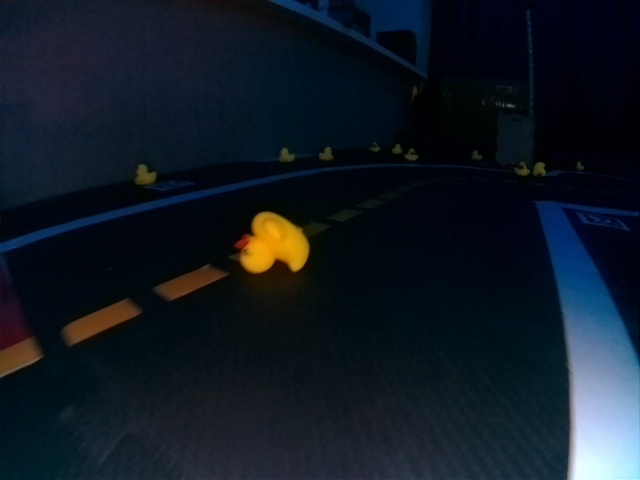Duckie: (237, 211, 304, 272), (136, 166, 157, 184), (279, 147, 294, 162), (318, 146, 333, 160), (533, 162, 546, 176), (515, 162, 528, 174), (407, 149, 418, 161), (370, 142, 379, 151), (392, 144, 401, 152), (472, 151, 481, 159), (575, 162, 585, 169)
QR code: (577, 211, 627, 230), (146, 178, 193, 190)
